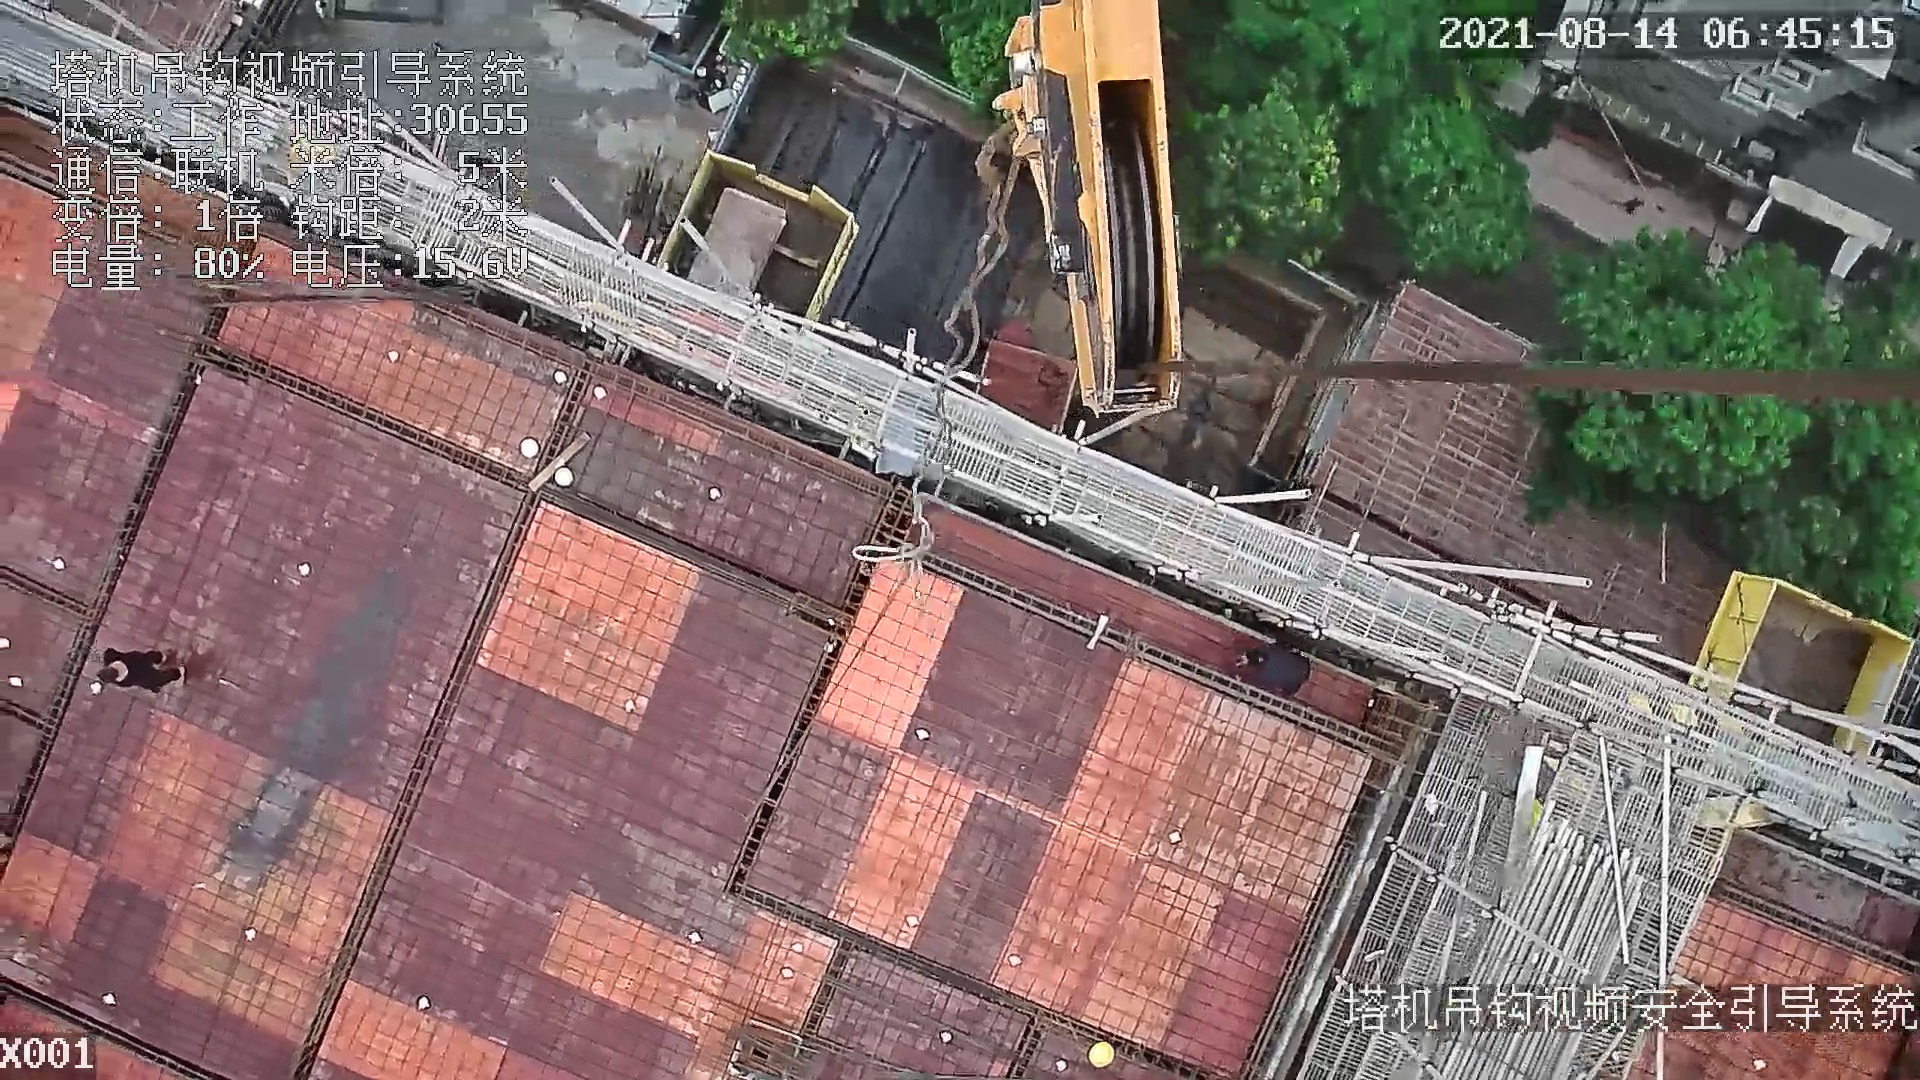helmet: (1088, 1038, 1118, 1069)
hook: (988, 1, 1179, 413)
person: (79, 640, 192, 701), (1240, 637, 1323, 692)
